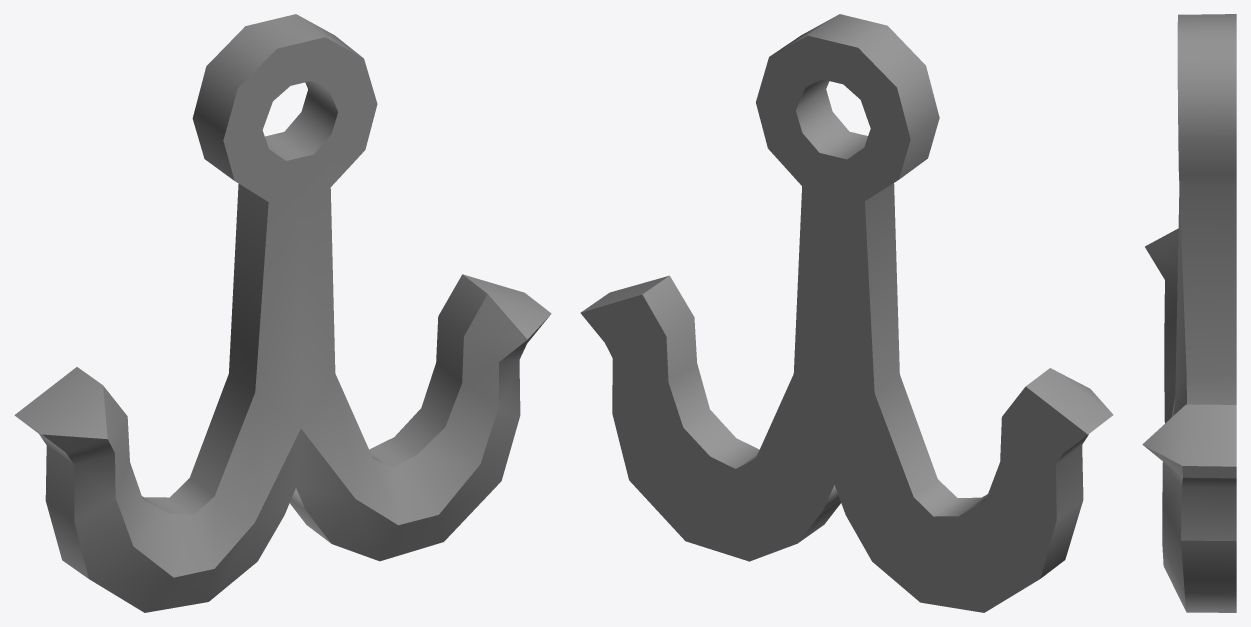
Rendered from Anchor_02.fbx.
The picture shows the model from 3 angles, left to right: view 1: azimuth 30°, elevation 25°; view 2: azimuth 150°, elevation 25°; view 3: azimuth 270°, elevation 25°; orthographic projection. The views are drawn at different scales.
Visible parts, largest first — view 1: Anchor_02; view 2: Anchor_02; view 3: Anchor_02.
Part boxes in pixels (bbox=[...]): Anchor_02: bbox=[14, 14, 551, 612]; Anchor_02: bbox=[580, 14, 1113, 612]; Anchor_02: bbox=[1142, 14, 1236, 612].
Size of the model in its own units: 125 by 127 by 20.9.
